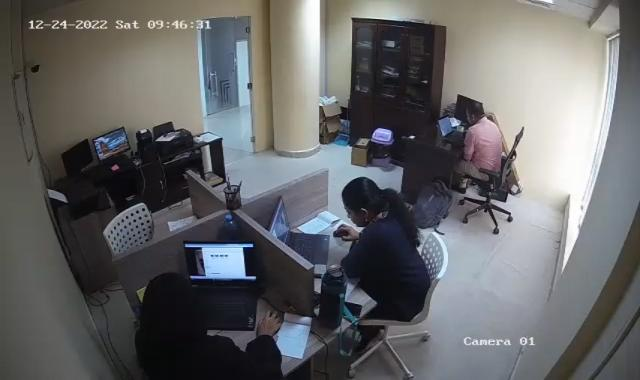no_hairnet: (143, 276, 196, 340), (341, 176, 384, 231), (463, 100, 486, 123)
